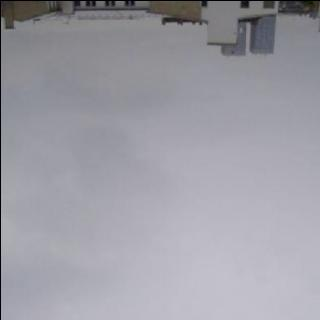Altostratus: (0, 28, 320, 320)
